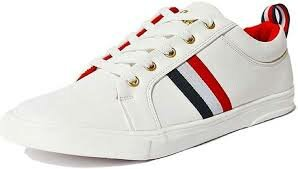Sneakers: (1, 1, 298, 165)
